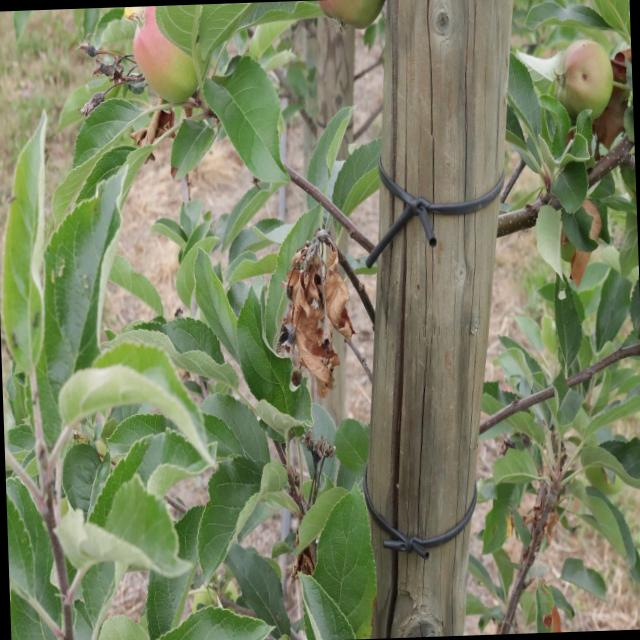-FireBlight-: (275, 236, 363, 392)
